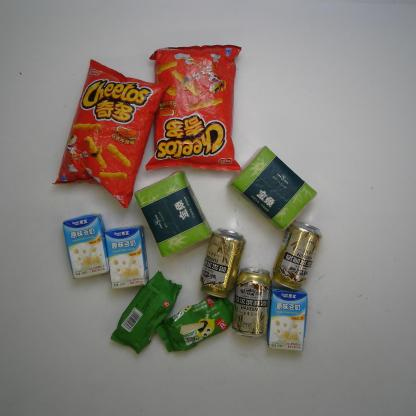Alcohol: (269, 219, 324, 292), (198, 227, 247, 299), (230, 266, 273, 340)
Dessert: (109, 269, 184, 355), (154, 292, 235, 354)
Milk: (61, 211, 111, 282), (103, 222, 151, 291), (264, 285, 310, 352)
Puffed Food: (48, 56, 172, 210), (144, 41, 244, 173)
Tissue: (224, 143, 320, 232), (132, 168, 214, 260)
